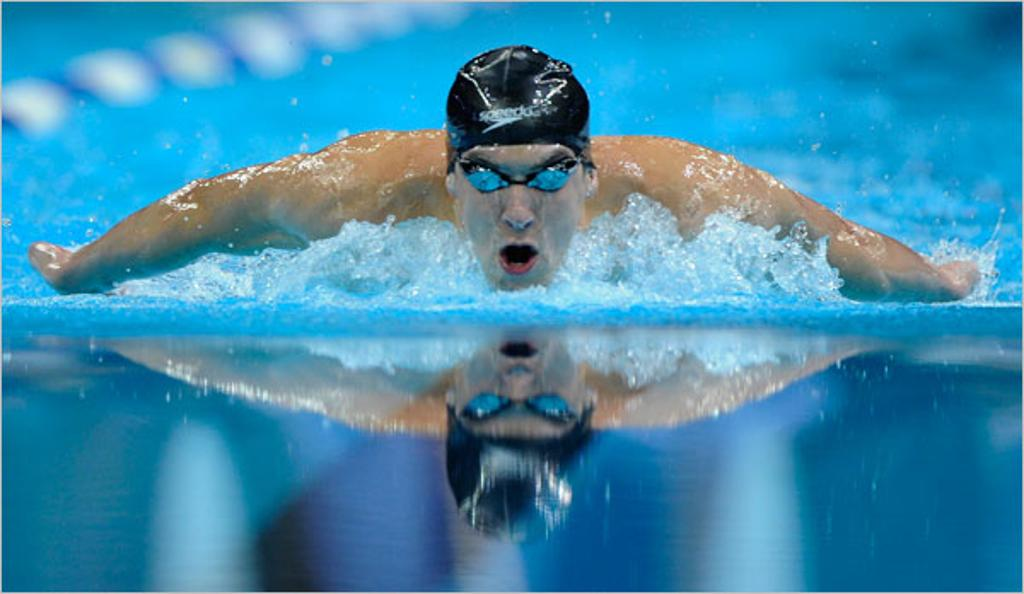face: (450, 330, 584, 530), (462, 124, 580, 292)
